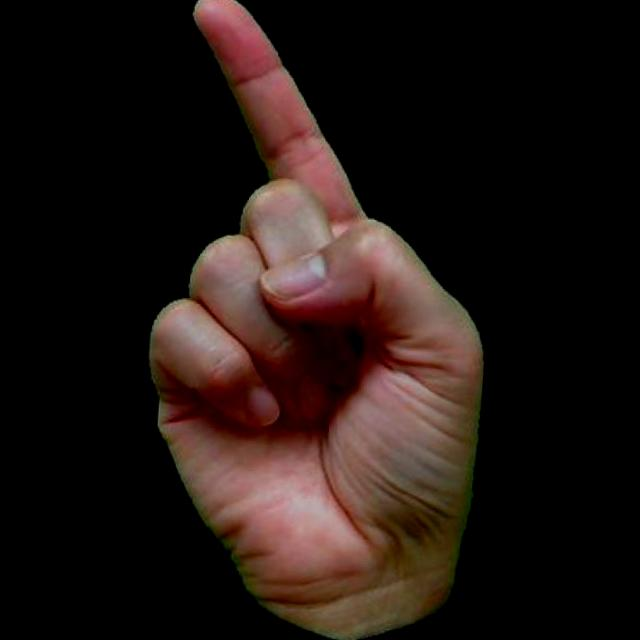z: (103, 0, 518, 640)
